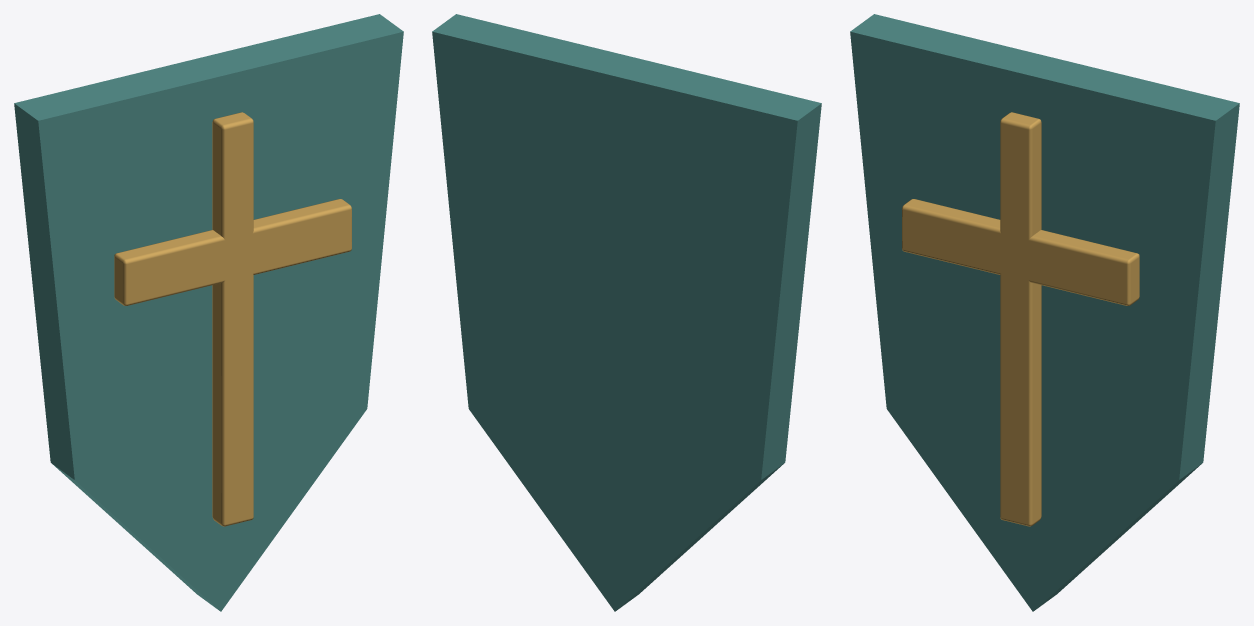
File: wp-bouclier-heraldique.glb
3 views of the same model, side by side, from view 1: azimuth 30°, elevation 25°; view 2: azimuth 150°, elevation 25°; view 3: azimuth 330°, elevation 25° (orthographic).
Parts seen in each view (by area): view 1: wp-bouclier-heraldique; view 2: wp-bouclier-heraldique; view 3: wp-bouclier-heraldique.
Boxes of the visible parts, <box> form: wp-bouclier-heraldique: <box>14,14,403,611</box>; wp-bouclier-heraldique: <box>432,14,821,611</box>; wp-bouclier-heraldique: <box>850,14,1239,611</box>.
Size of the model in its own units: 0.5 by 0.7 by 0.1.
